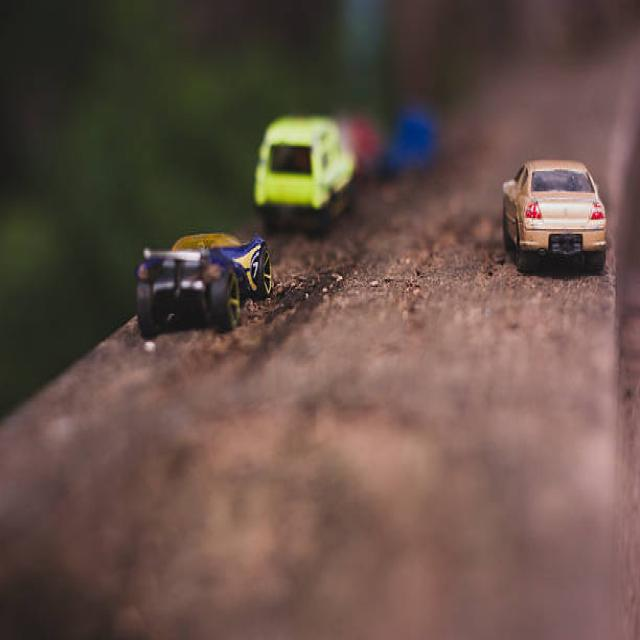Car: (134, 229, 272, 337), (501, 157, 606, 273), (252, 114, 356, 230)
